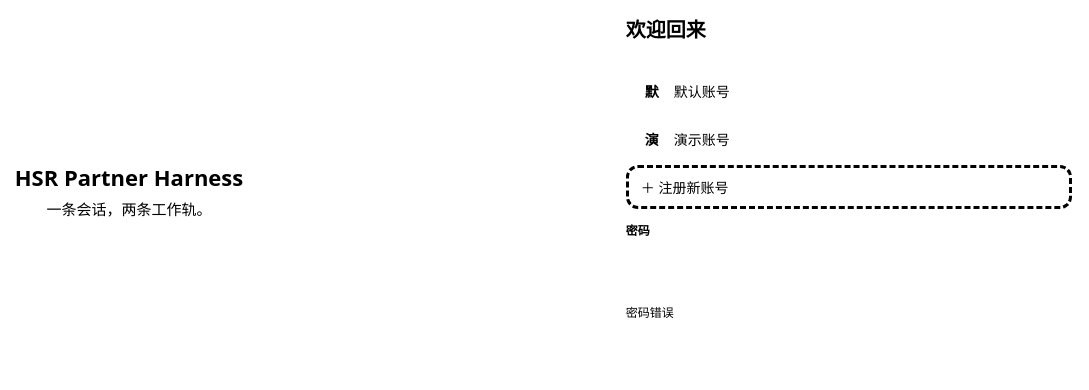
Scenario: AccountGate › 登录与注册表单互切时都请求清理上一轮错误
Click the button "＋ 注册新账号" at [685, 188], box [626, 165, 1072, 209]
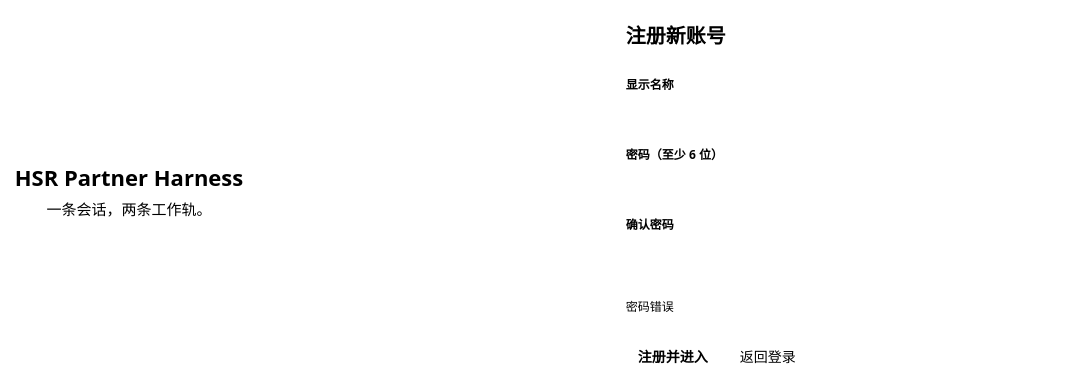
Now the heading "注册新账号" is shown, box [626, 22, 726, 49]
Click the button "返回登录" at [768, 357], box [728, 341, 808, 373]
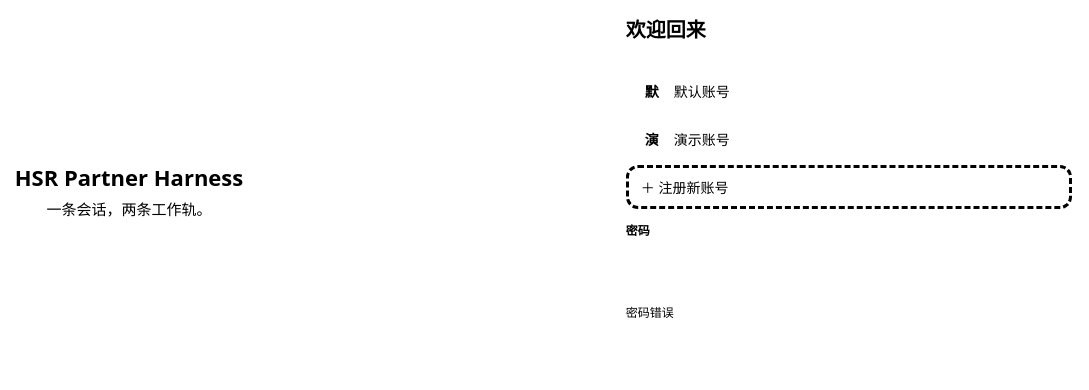
Now the heading "欢迎回来" is shown, box [626, 16, 706, 43]
